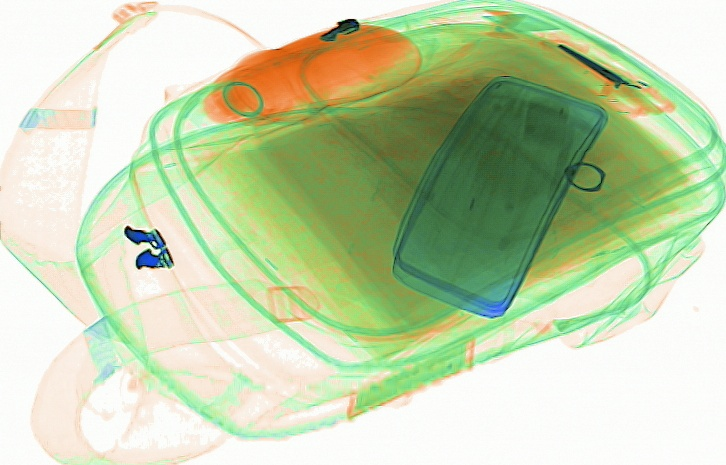scissors: (555, 42, 676, 124)
